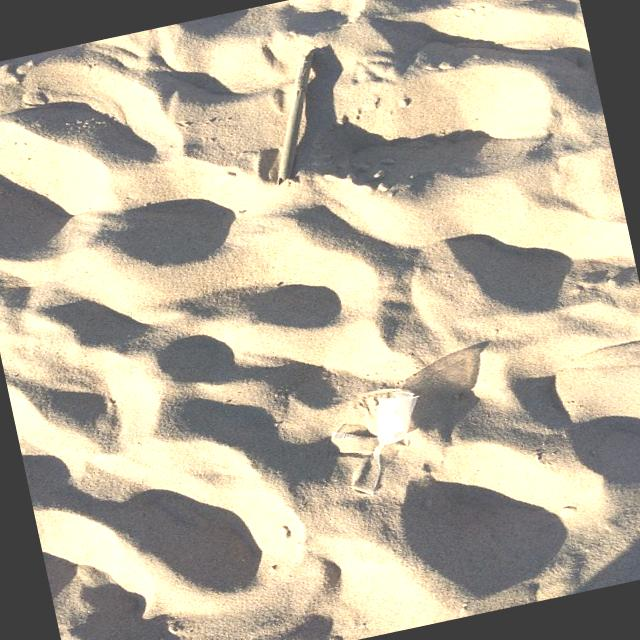Trash: (358, 384, 428, 452)
